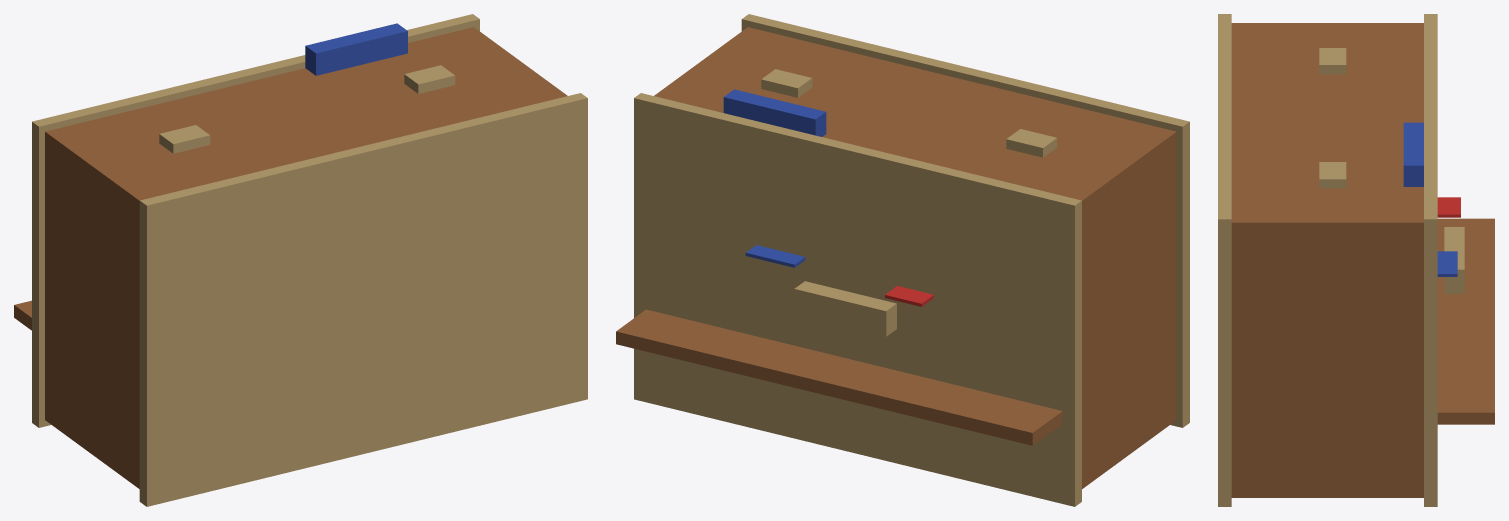
Rendered from suitcase.obj.
3 views of the same model, side by side, from view 1: azimuth 30°, elevation 25°; view 2: azimuth 150°, elevation 25°; view 3: azimuth 270°, elevation 25° (orthographic). The views are drawn at different scales.
Parts seen in each view (by area): view 1: Suitcase; view 2: Suitcase; view 3: Suitcase.
Boxes of the visible parts, <box> form: Suitcase: <box>14,14,587,506</box>; Suitcase: <box>616,14,1189,506</box>; Suitcase: <box>1218,14,1494,506</box>.
Size of the model in its own units: 0.72 by 0.495 by 0.41.
